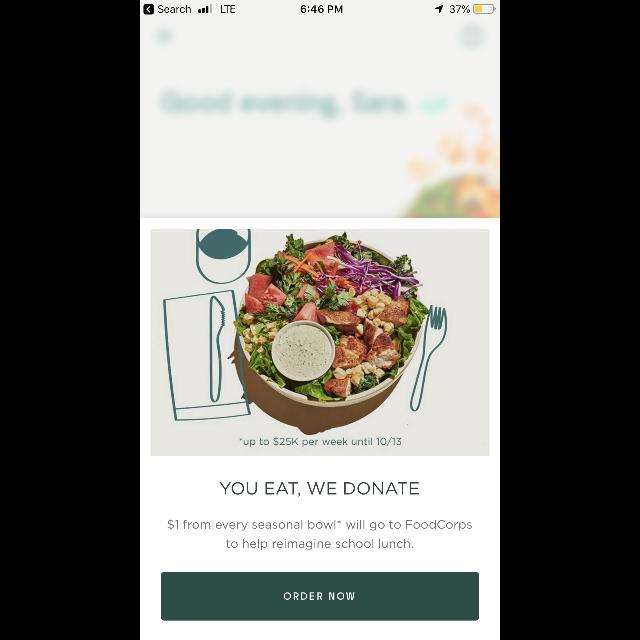image: (150, 229, 490, 456)
panel: (140, 218, 500, 640)
text: (168, 520, 472, 550), (220, 482, 418, 496), (239, 437, 401, 447)
textbutton: (161, 572, 479, 620)
uppertaskbar: (140, 0, 500, 14)
